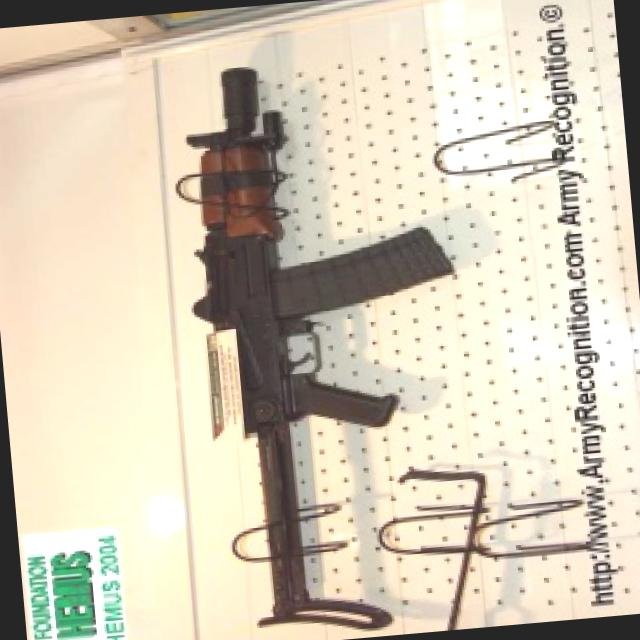long weapon: (165, 53, 428, 626)
